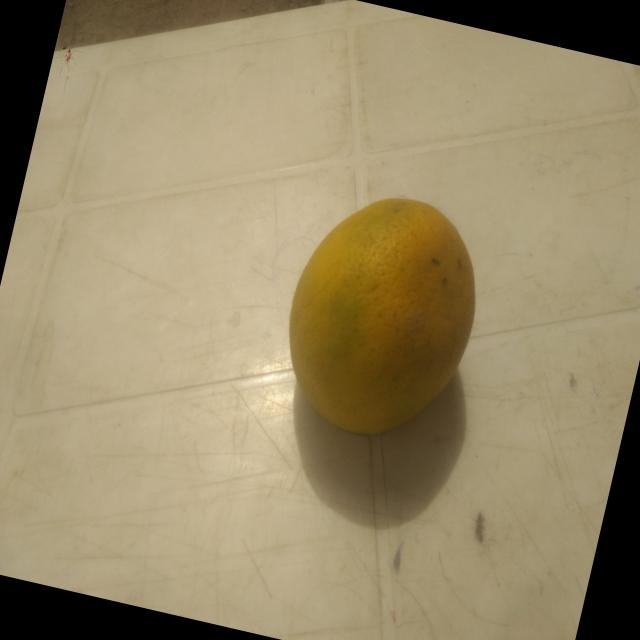agrume: (246, 160, 515, 497)
